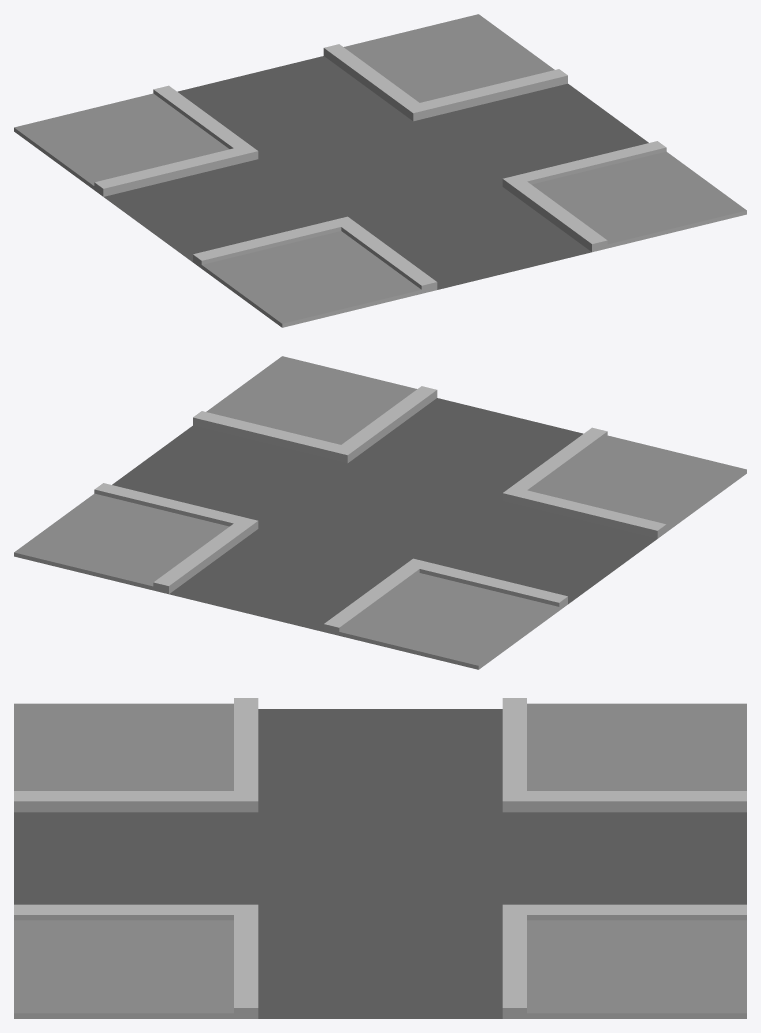
The model's file is street_1cross4.fbx.
3 renders of one model, top to bottom at view 1: azimuth 30°, elevation 25°; view 2: azimuth 150°, elevation 25°; view 3: azimuth 270°, elevation 25°, orthographic. The views are drawn at different scales.
Parts seen in each view (by area): view 1: street_1cross4; view 2: street_1cross4; view 3: street_1cross4.
Part boxes in pixels (left/top/right/bottom): street_1cross4: left=14, top=14, right=746, bottom=327; street_1cross4: left=14, top=356, right=746, bottom=669; street_1cross4: left=14, top=698, right=746, bottom=1018.
Bounding box in the file's own units: 12 × 0.2 × 12.
